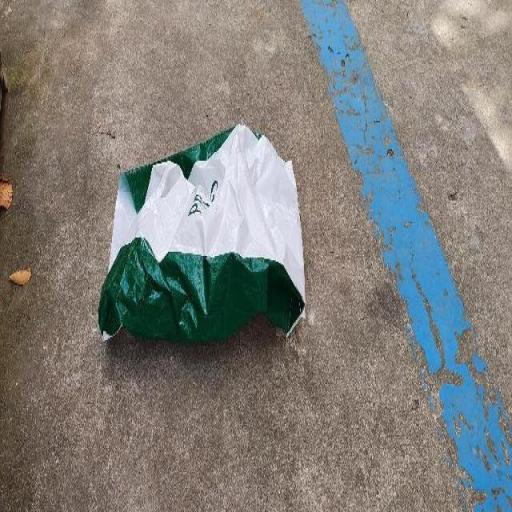plastic-bag: (96, 118, 310, 344)
